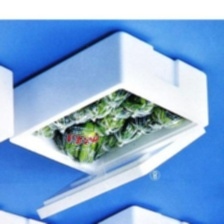foam_box: (5, 28, 213, 223), (88, 200, 195, 224), (0, 60, 18, 148)
